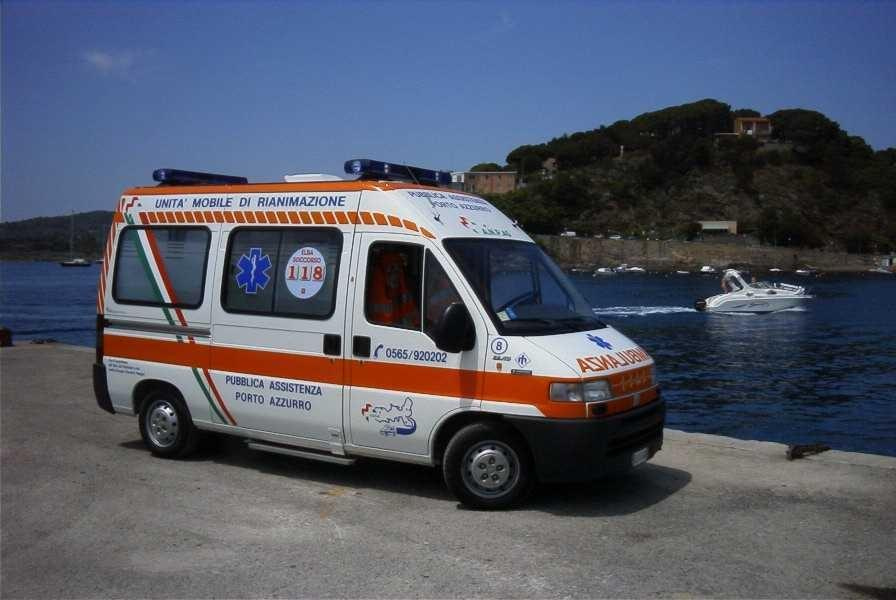car: (91, 157, 666, 508)
